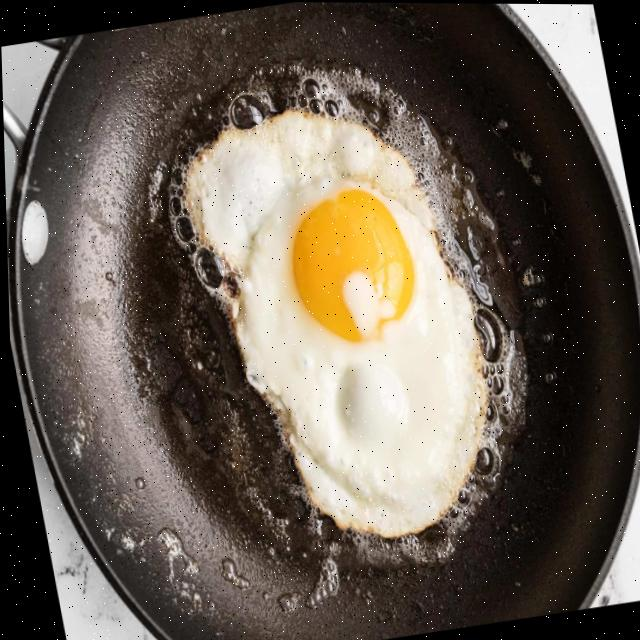Egg: (185, 111, 484, 537)
